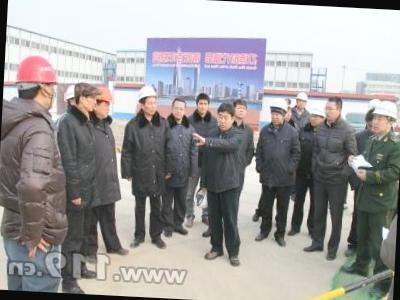no_helmet: (70, 78, 94, 115), (322, 95, 344, 124), (214, 100, 235, 130), (169, 94, 189, 125), (232, 96, 252, 122), (194, 90, 211, 116)
